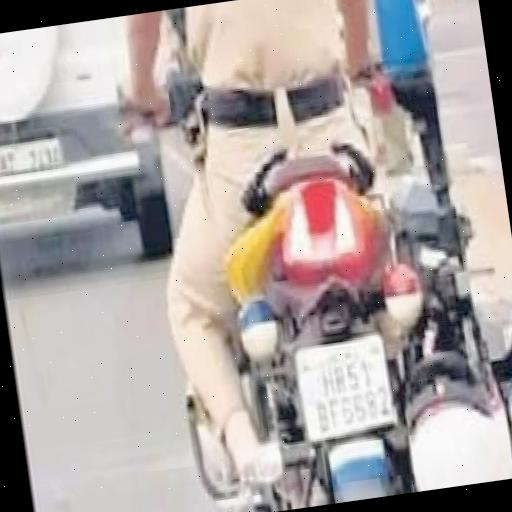number plate: (241, 293, 472, 476)
